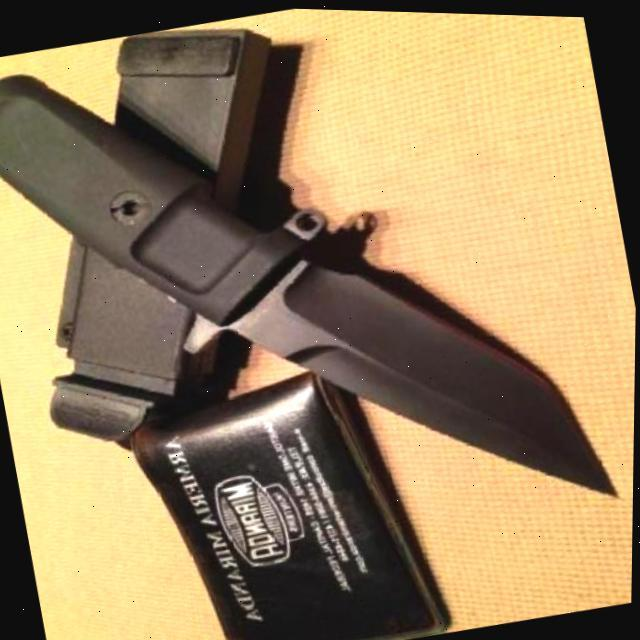knife: (0, 0, 625, 604)
